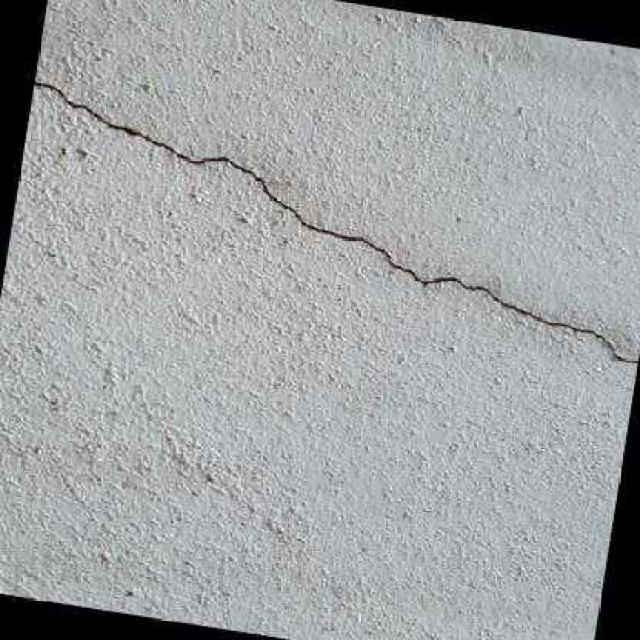D00: (33, 72, 639, 365)
